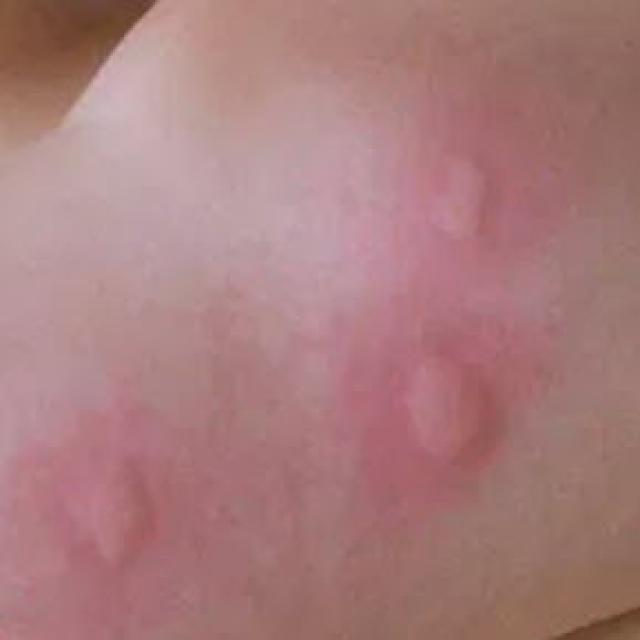sinek: (36, 436, 181, 582), (384, 324, 516, 480), (398, 126, 526, 269)
